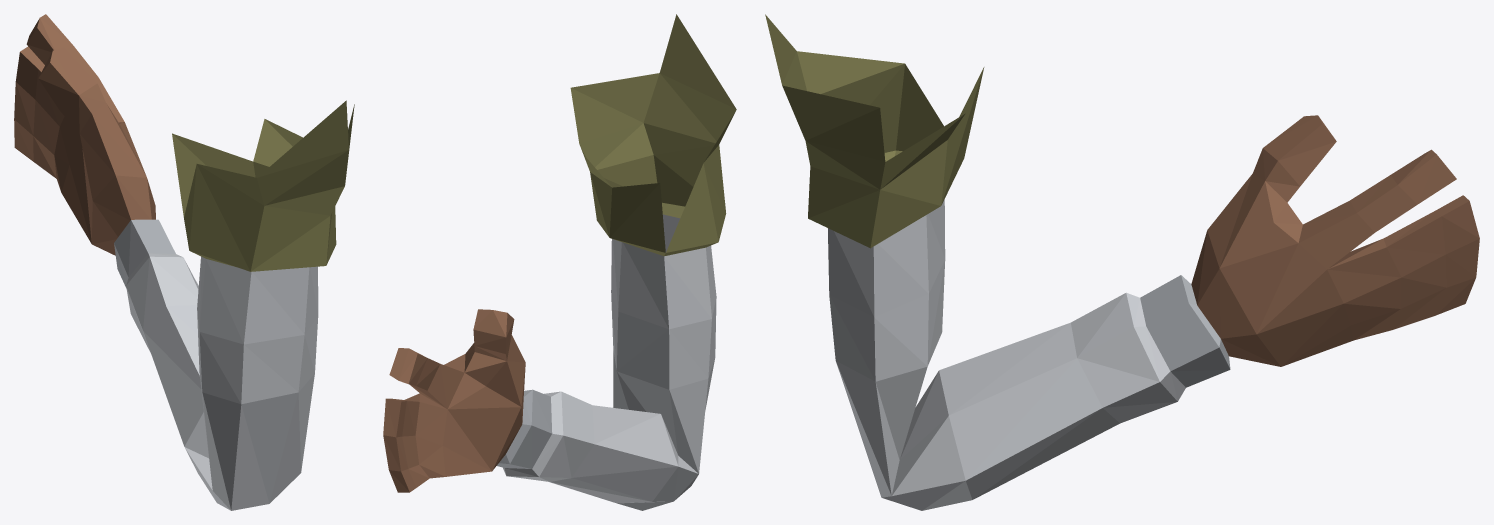
Rendered from Daughter_01_ArmR_118_01_C.obj.
3 views of the same model, side by side, from view 1: azimuth 30°, elevation 25°; view 2: azimuth 150°, elevation 25°; view 3: azimuth 270°, elevation 25° (orthographic). The views are drawn at different scales.
Visible parts, largest first — view 1: Daughter_01_ArmR_118_01_C; view 2: Daughter_01_ArmR_118_01_C; view 3: Daughter_01_ArmR_118_01_C.
Boxes of the visible parts, x1,y1,x2,y2 form: Daughter_01_ArmR_118_01_C: [14, 14, 354, 510]; Daughter_01_ArmR_118_01_C: [383, 14, 736, 510]; Daughter_01_ArmR_118_01_C: [765, 14, 1479, 510].
Bounding box in the file's own units: 0.1622 × 0.4351 × 0.5515.
1 material, 1 textured.
